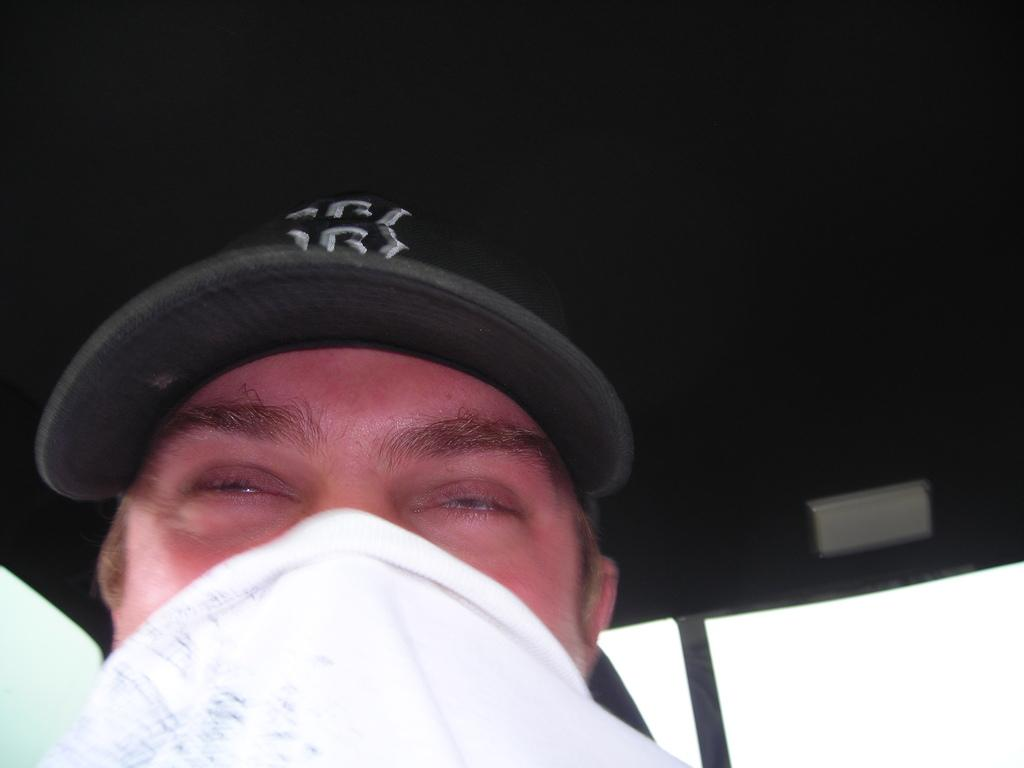Hat: (35, 188, 635, 542)
